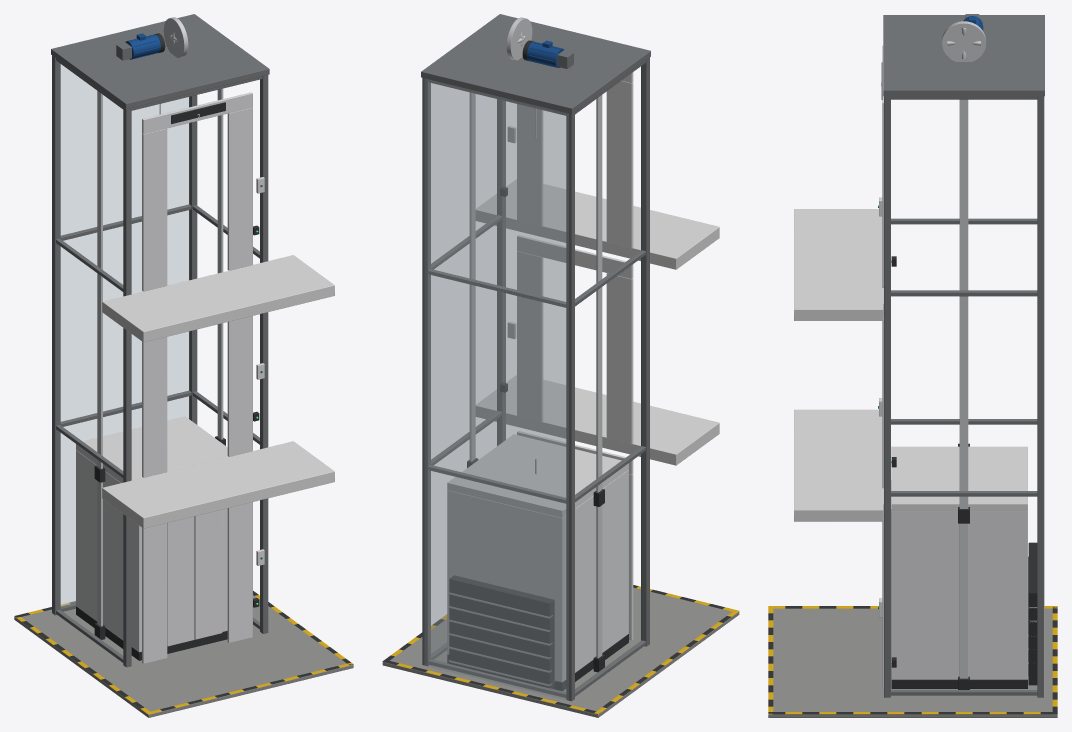
Rendered from machine_lift.glb.
The picture shows the model from 3 angles, left to right: view 1: azimuth 30°, elevation 25°; view 2: azimuth 150°, elevation 25°; view 3: azimuth 270°, elevation 25°; orthographic projection. The views are drawn at different scales.
Parts seen in each view (by area): view 1: frame, car_mesh, door_l_mesh, door_r_mesh, sheave_mesh; view 2: frame, car_mesh, cw_mesh, sheave_mesh; view 3: frame, car_mesh, sheave_mesh, cw_mesh.
Boxes of the visible parts, left/top/right/bottom form: frame: left=14, top=14, right=353, bottom=717; car_mesh: left=76, top=416, right=228, bottom=660; door_l_mesh: left=167, top=516, right=195, bottom=646; door_r_mesh: left=195, top=509, right=222, bottom=639; sheave_mesh: left=163, top=17, right=188, bottom=58; frame: left=382, top=14, right=739, bottom=717; car_mesh: left=447, top=434, right=628, bottom=690; cw_mesh: left=448, top=575, right=555, bottom=688; sheave_mesh: left=506, top=17, right=532, bottom=60; frame: left=768, top=14, right=1057, bottom=717; car_mesh: left=891, top=443, right=1027, bottom=689; sheave_mesh: left=942, top=21, right=986, bottom=61; cw_mesh: left=1028, top=542, right=1037, bottom=685.
Bounding box in the file's own units: 3 × 8.43 × 3.4.
